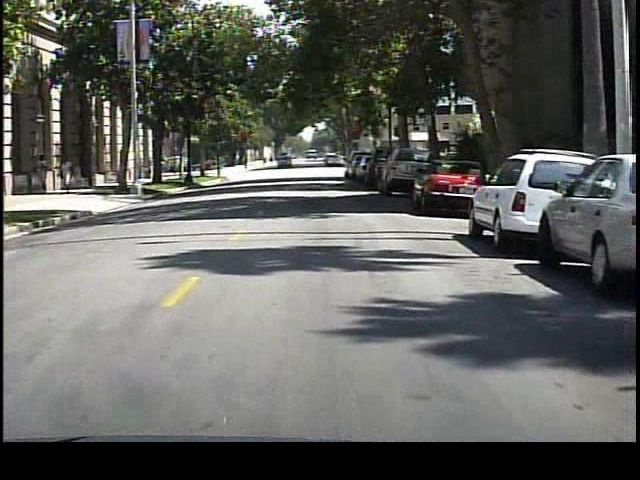person: (57, 155, 81, 195), (37, 151, 57, 193)
